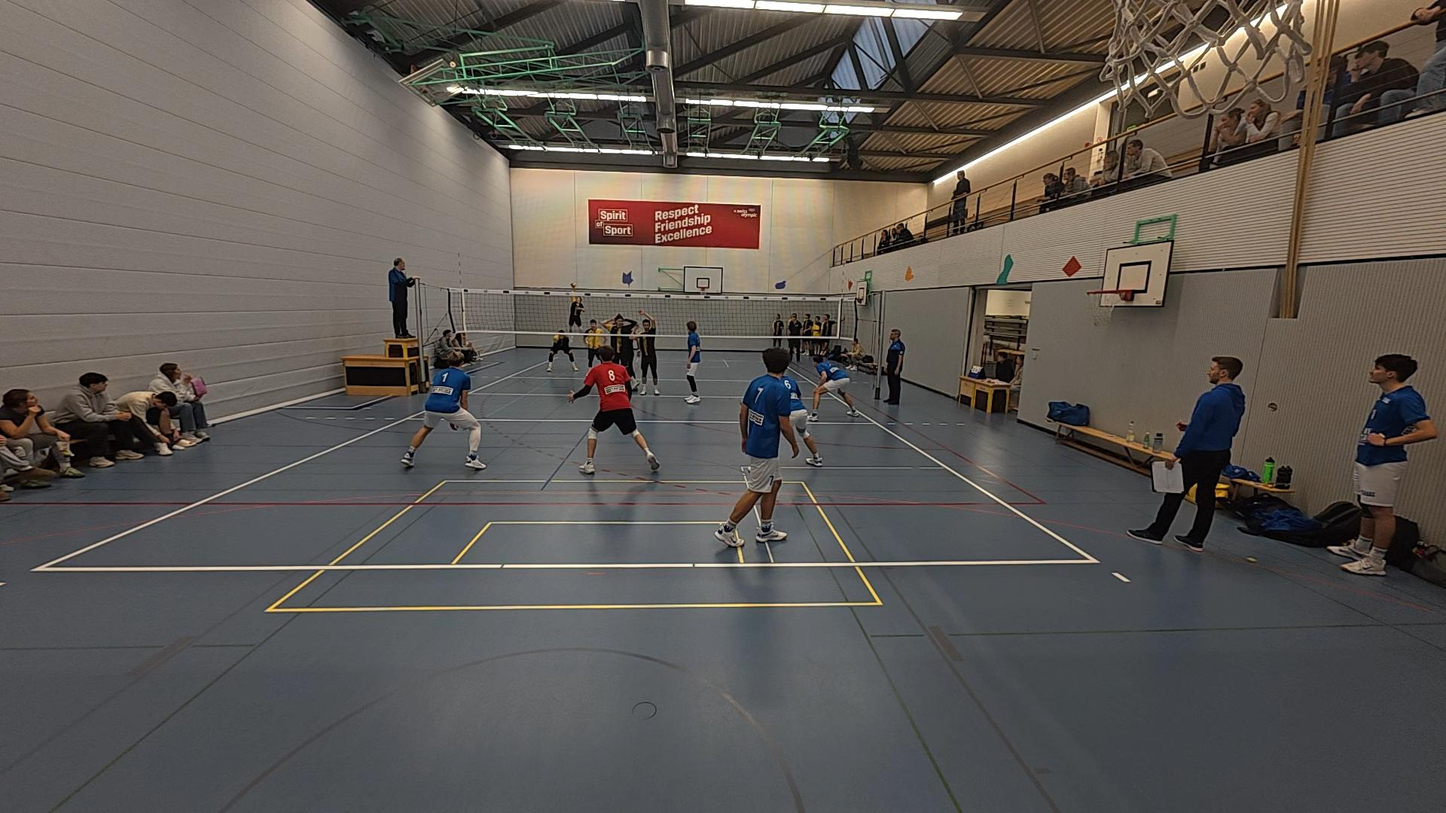Player: (715, 349, 798, 547), (569, 346, 660, 474), (402, 351, 484, 471), (770, 367, 821, 471), (808, 349, 860, 421), (599, 309, 638, 392), (630, 312, 660, 396), (543, 316, 579, 372), (683, 321, 703, 405), (583, 316, 609, 367)
Serve: (566, 282, 587, 336)
ball: (901, 264, 917, 282), (569, 281, 581, 292)
